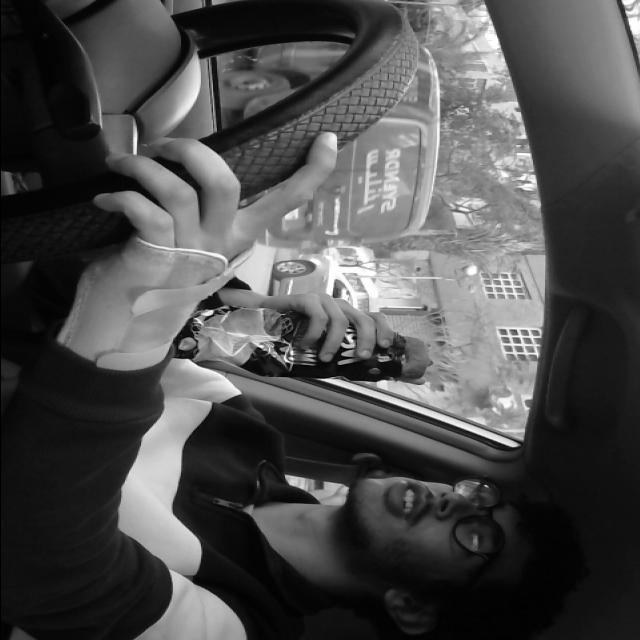eating: (164, 294, 430, 389)
